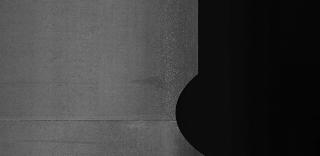welding line: (2, 114, 190, 132)
